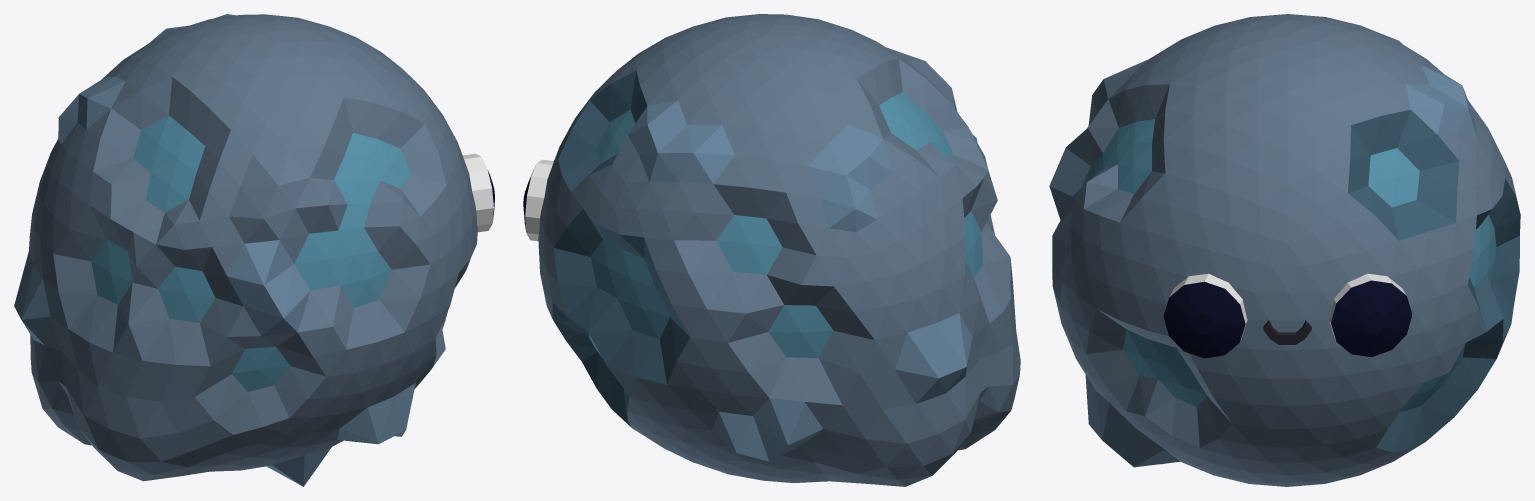
Rendered from meteor1.1.glb.
3 views of the same model, side by side, from view 1: azimuth 30°, elevation 25°; view 2: azimuth 150°, elevation 25°; view 3: azimuth 270°, elevation 25° (orthographic). The views are drawn at different scales.
Parts seen in each view (by area): view 1: Icosphere, Cylinder; view 2: Icosphere, Cylinder; view 3: Icosphere, Cylinder, Cube.
Boxes of the visible parts, x1,y1,x2,y2 form: Icosphere: (14, 14, 477, 486); Cylinder: (463, 153, 494, 232); Icosphere: (538, 14, 1020, 486); Cylinder: (523, 159, 553, 241); Icosphere: (1049, 14, 1520, 486); Cylinder: (1163, 273, 1412, 358); Cube: (1263, 320, 1311, 344).
Bounding box in the file's own units: 4.29 × 4.06 × 3.99.
